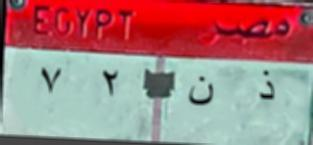2: (40, 63, 63, 102), (101, 67, 122, 99)
noon: (186, 73, 217, 113)
zaal: (258, 66, 278, 106)
